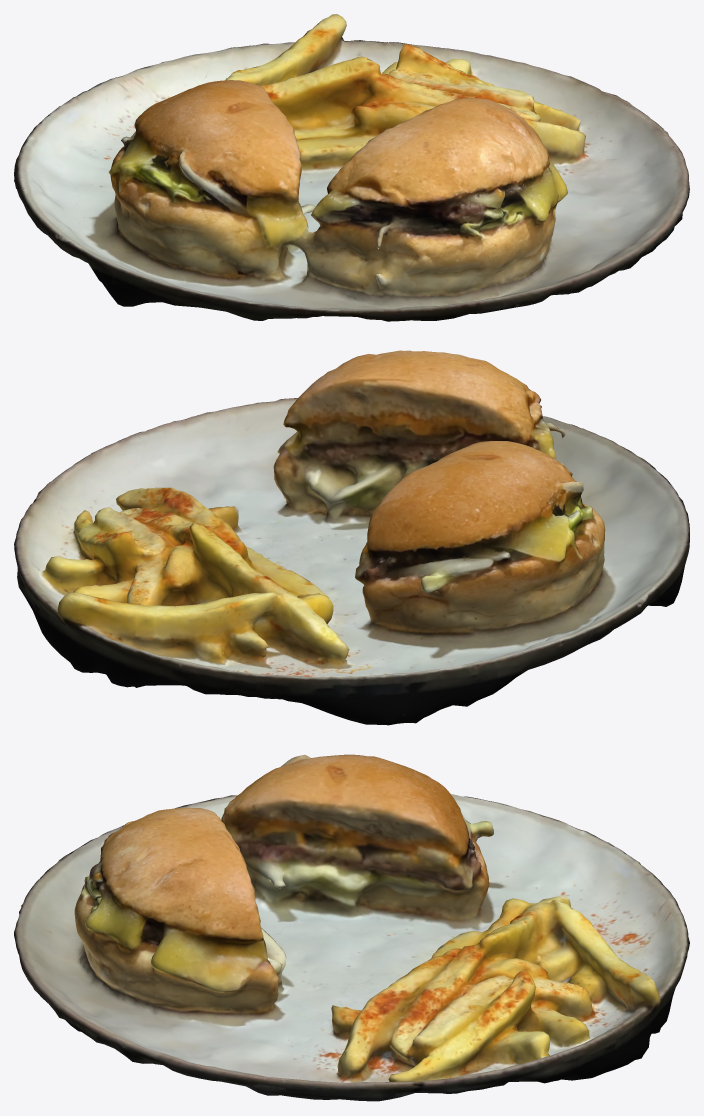
File: beef 8.glb
3 renders of one model, top to bottom at view 1: azimuth 30°, elevation 25°; view 2: azimuth 150°, elevation 25°; view 3: azimuth 270°, elevation 25°, orthographic.
Parts seen in each view (by area): view 1: ObjectCapture; view 2: ObjectCapture; view 3: ObjectCapture.
Boxes of the visible parts, x1,y1,x2,y2 form: ObjectCapture: (14, 14, 689, 321); ObjectCapture: (14, 350, 689, 725); ObjectCapture: (14, 754, 689, 1101).
Bounding box in the file's own units: 0.2508 × 0.069 × 0.2499.
Materials: 1 (1 with a texture image).
